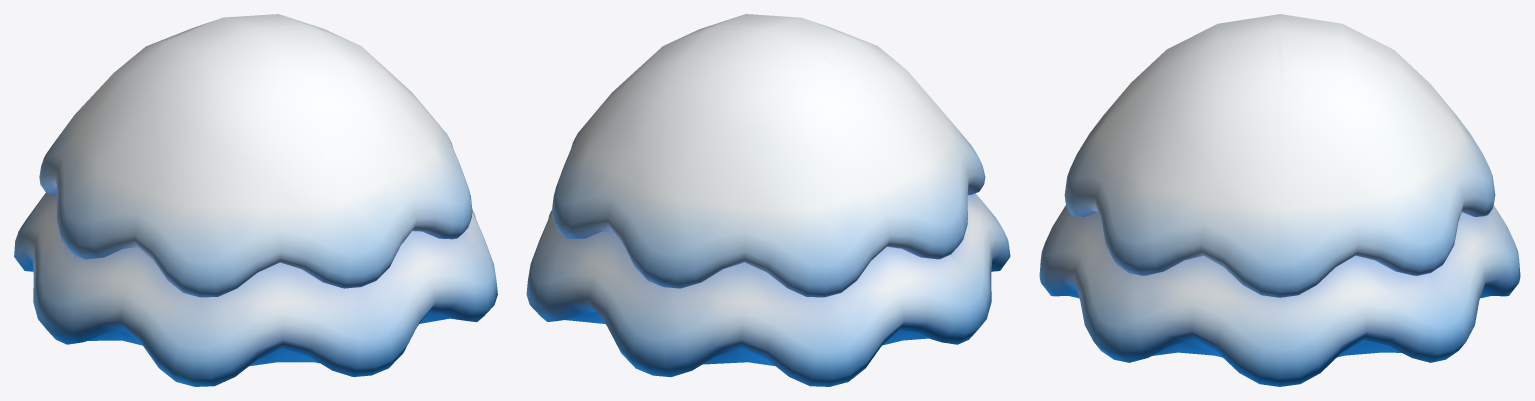
Rendered from bush1.fbx.
3 renders of one model, left to right at view 1: azimuth 30°, elevation 25°; view 2: azimuth 150°, elevation 25°; view 3: azimuth 270°, elevation 25°, orthographic.
Parts seen in each view (by area): view 1: default; view 2: default; view 3: default.
Part boxes in pixels (x1,y1,x2,y2): default: (14, 14, 497, 386); default: (526, 14, 1010, 386); default: (1039, 14, 1520, 386).
Bounding box in the file's own units: 156 × 93.16 × 156.
